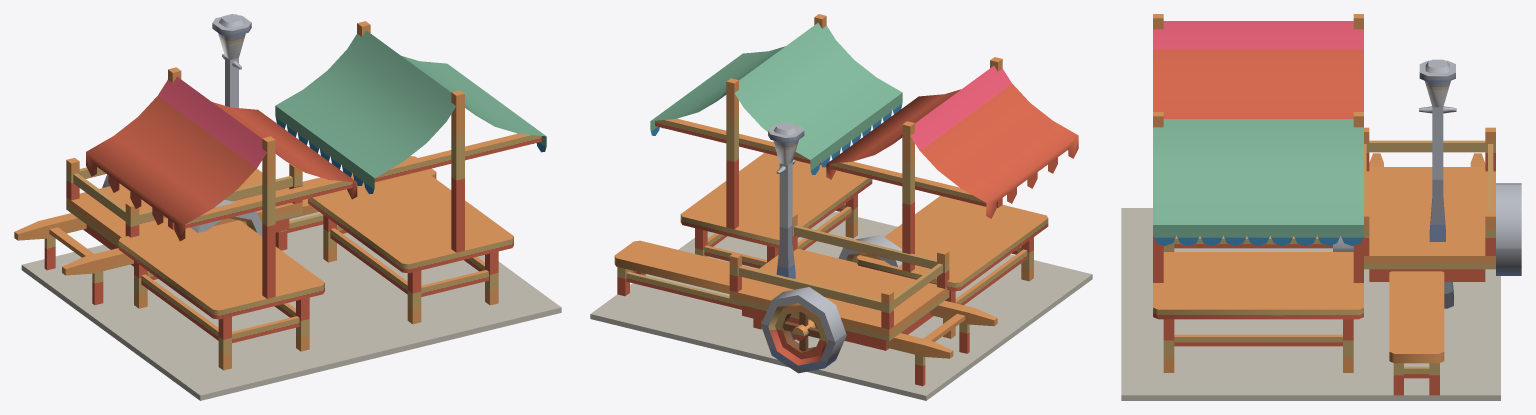
File: market.glb
3 views of the same model, side by side, from view 1: azimuth 30°, elevation 25°; view 2: azimuth 150°, elevation 25°; view 3: azimuth 270°, elevation 25° (orthographic). The views are drawn at different scales.
Parts seen in each view (by area): view 1: market (×2); view 2: market (×2); view 3: market (×2).
Part boxes in pixels (<box>): market (×2): <box>14,14,561,400</box>; market (×2): <box>590,14,1092,400</box>; market (×2): <box>1121,14,1521,400</box>.
Size of the model in its own units: 0.9 by 0.518 by 0.7706.
Materials: 2 (1 with a texture image).
